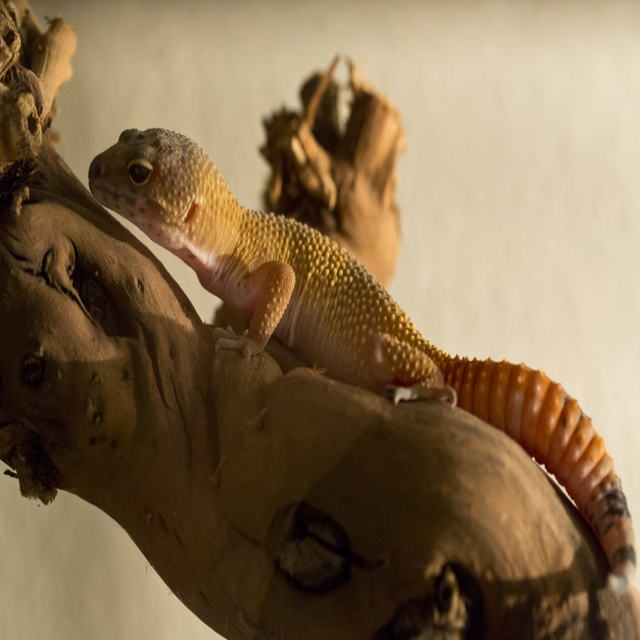Lizard: (54, 116, 626, 598)
